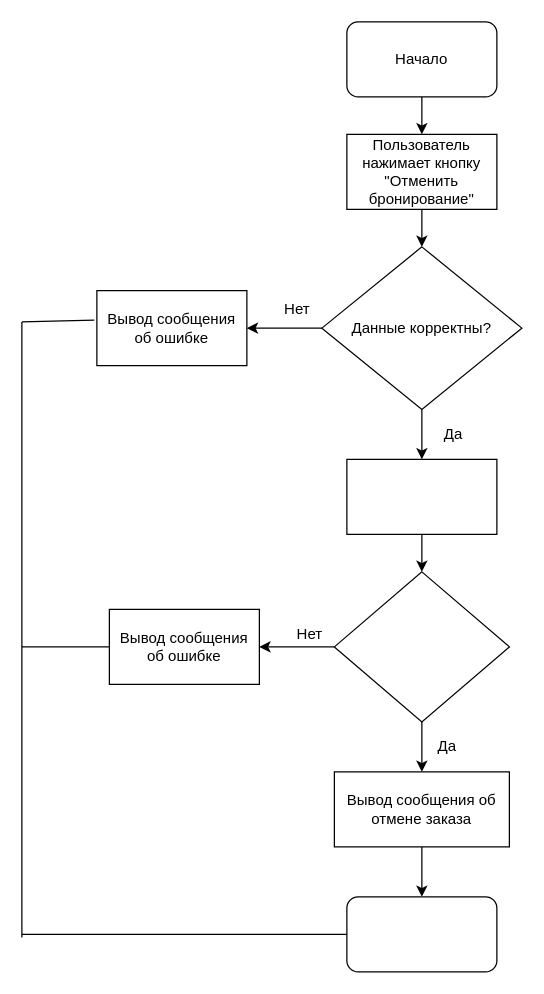
Image size: 544x994. Some labels were removed from this diagram. The shapes that lost their labels are listed below. From the top down, each one's box as (x1, y1, x2, y2) in pixels, then its label:
(346, 458, 497, 534): Проверка уникальности полей "E-mail" и "Телефон"
(333, 571, 509, 722): Данные уникальны?
(346, 896, 497, 972): Конец
